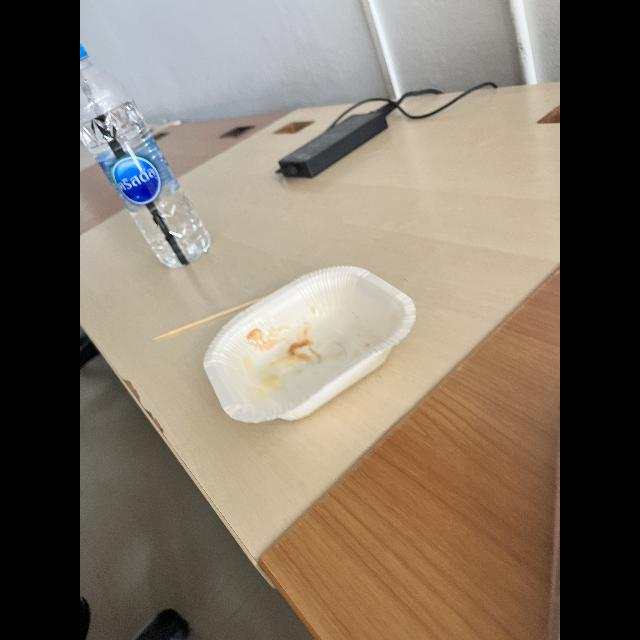cardboard_bowl: (202, 259, 420, 433)
stick: (153, 299, 257, 343)
